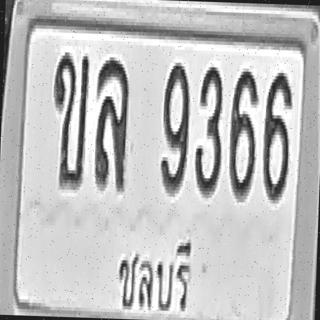A02: (50, 50, 90, 188)
A36: (93, 55, 130, 190)
N03: (193, 63, 224, 198)
N06: (228, 68, 259, 199), (261, 69, 292, 200)
N09: (160, 60, 190, 195)
P13: (110, 225, 198, 320)
